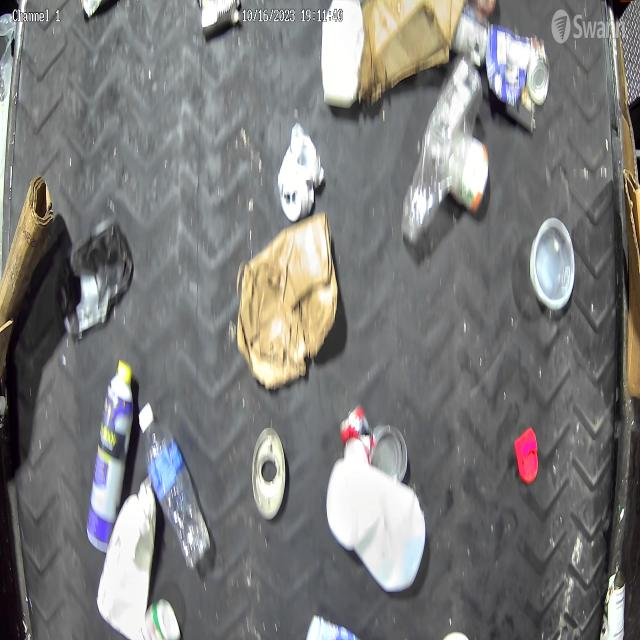can: (277, 122, 326, 223), (252, 425, 286, 521), (458, 135, 490, 214), (452, 3, 491, 66), (371, 422, 408, 484), (339, 404, 376, 461), (526, 32, 551, 104), (603, 569, 626, 640), (200, 0, 240, 37)
milk_jug: (325, 438, 427, 595), (96, 475, 156, 640)
plastic_bottle: (401, 55, 484, 246), (138, 402, 212, 570)
